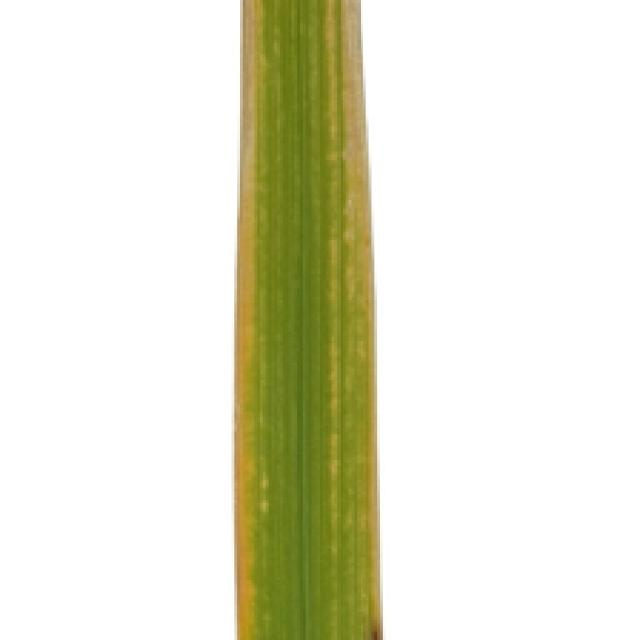Rice___Bacterial_Leaf_Blight: (232, 0, 384, 637)
